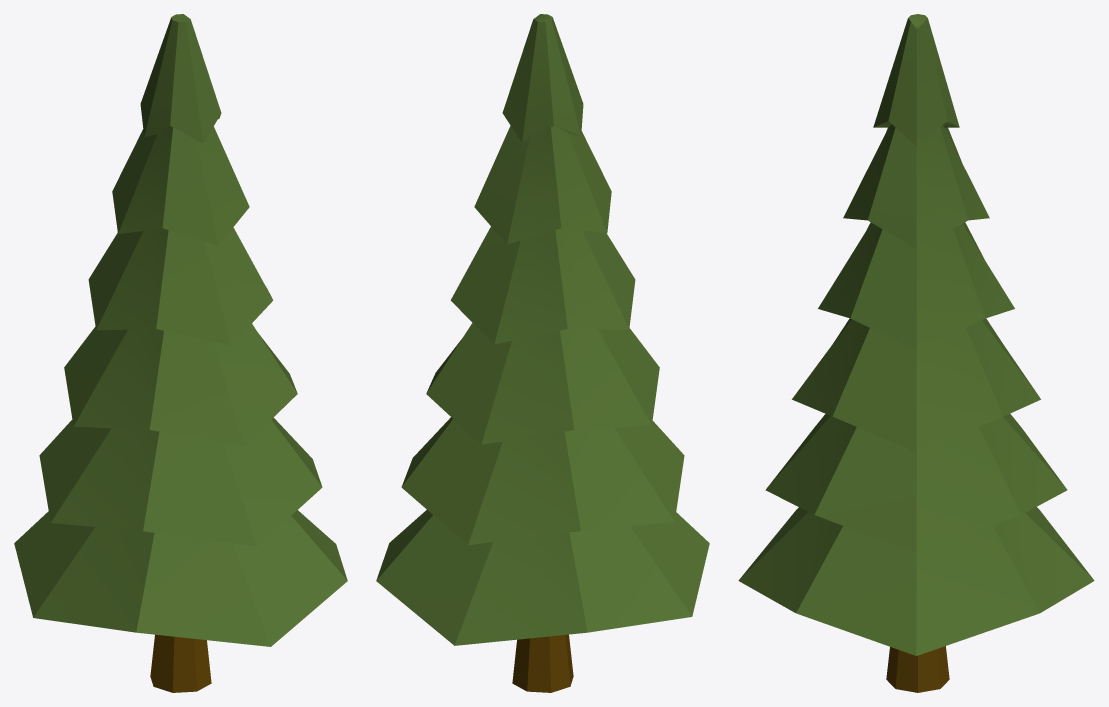
The model's file is tree.fbx.
3 views of the same model, side by side, from view 1: azimuth 30°, elevation 25°; view 2: azimuth 150°, elevation 25°; view 3: azimuth 270°, elevation 25° (orthographic).
Visible parts, largest first — view 1: Cylinder, Cylinder.001; view 2: Cylinder, Cylinder.001; view 3: Cylinder, Cylinder.001.
Boxes of the visible parts, x1,y1,x2,y2 form: Cylinder: (14, 14, 347, 646); Cylinder.001: (150, 634, 211, 692); Cylinder: (376, 14, 709, 645); Cylinder.001: (512, 634, 573, 692); Cylinder: (738, 14, 1094, 655); Cylinder.001: (886, 646, 949, 692).
Size of the model in its own units: 361 by 754 by 368.
